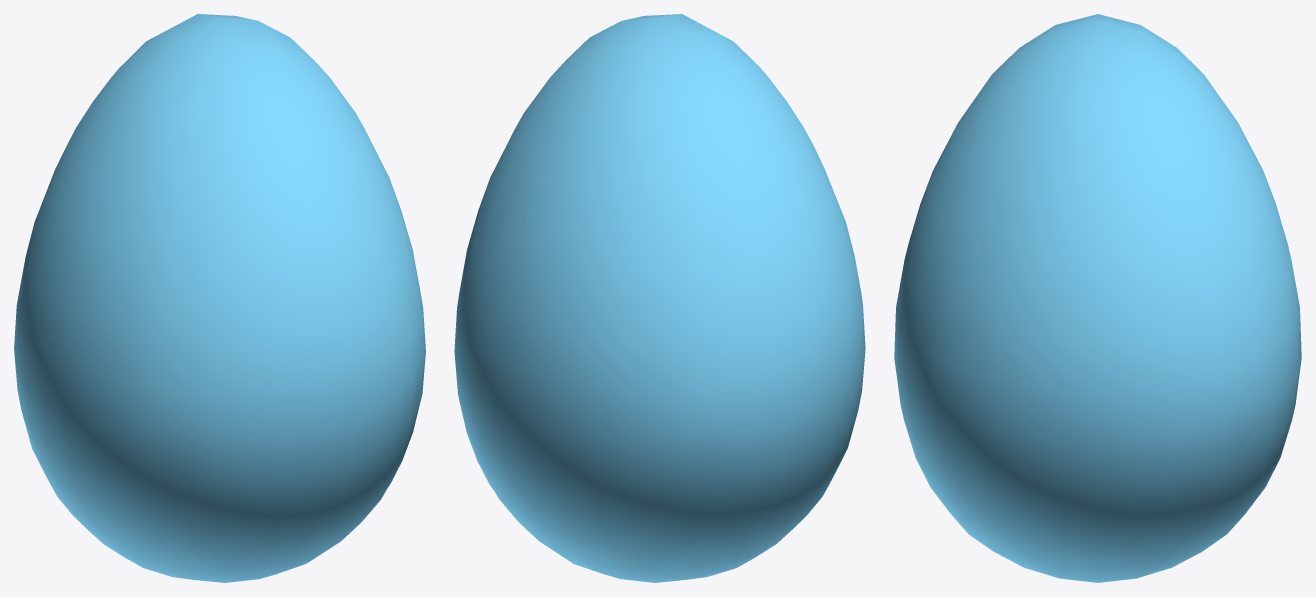
File: chocolateegg_blue.glb
3 views of the same model, side by side, from view 1: azimuth 30°, elevation 25°; view 2: azimuth 150°, elevation 25°; view 3: azimuth 270°, elevation 25° (orthographic).
Visible parts, largest first — view 1: ChocolateEgg_LOD0; view 2: ChocolateEgg_LOD0; view 3: ChocolateEgg_LOD0.
Part boxes in pixels (x1=…): ChocolateEgg_LOD0: x1=14, y1=14, x2=425, y2=582; ChocolateEgg_LOD0: x1=454, y1=14, x2=865, y2=582; ChocolateEgg_LOD0: x1=894, y1=14, x2=1301, y2=582.
Bounding box in the file's own units: 0.1713 × 0.2519 × 0.1713.
Materials: 1 (1 with a texture image).
